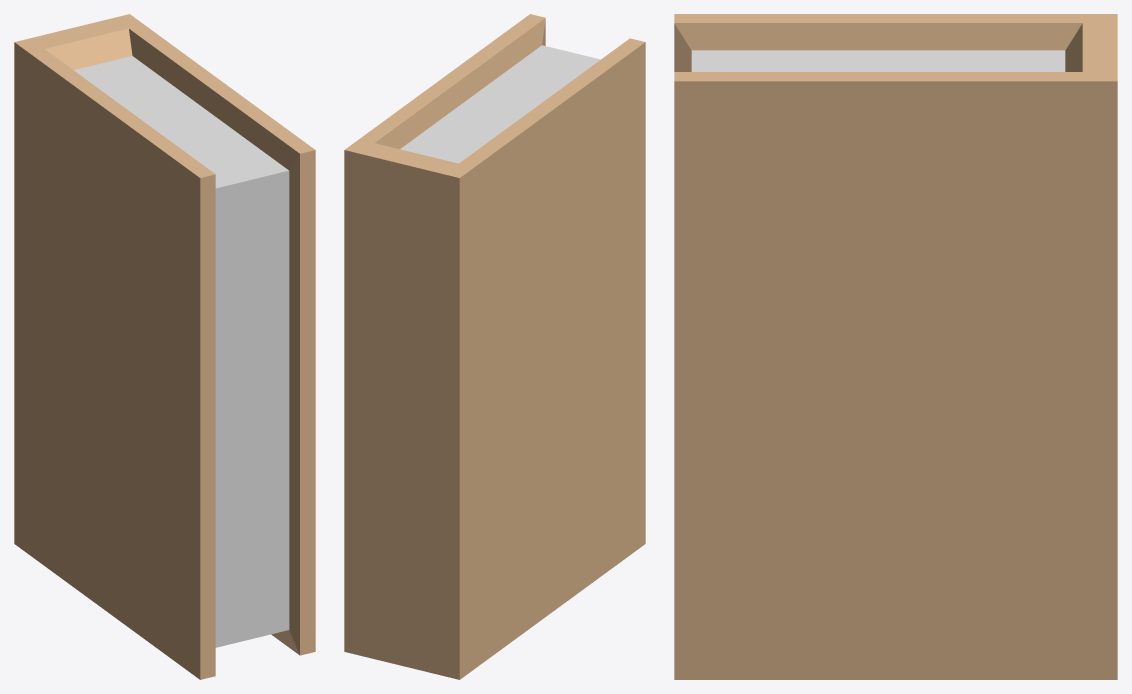
The model's file is Libros.034.fbx.
3 renders of one model, left to right at view 1: azimuth 30°, elevation 25°; view 2: azimuth 150°, elevation 25°; view 3: azimuth 270°, elevation 25°, orthographic. The views are drawn at different scales.
Parts seen in each view (by area): view 1: Libros.034; view 2: Libros.034; view 3: Libros.034.
Boxes of the visible parts, left/top/right/bottom form: Libros.034: left=14, top=14, right=315, bottom=679; Libros.034: left=344, top=14, right=645, bottom=679; Libros.034: left=674, top=14, right=1117, bottom=679.
Size of the model in its own units: 10.56 by 43.9 by 29.46.
